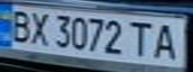0: (66, 14, 87, 52)
2: (103, 16, 130, 56)
3: (51, 12, 72, 50)
7: (84, 15, 106, 53)
A: (148, 20, 184, 61)
B: (3, 7, 36, 44)
T: (127, 18, 157, 58)
X: (24, 9, 54, 47)
